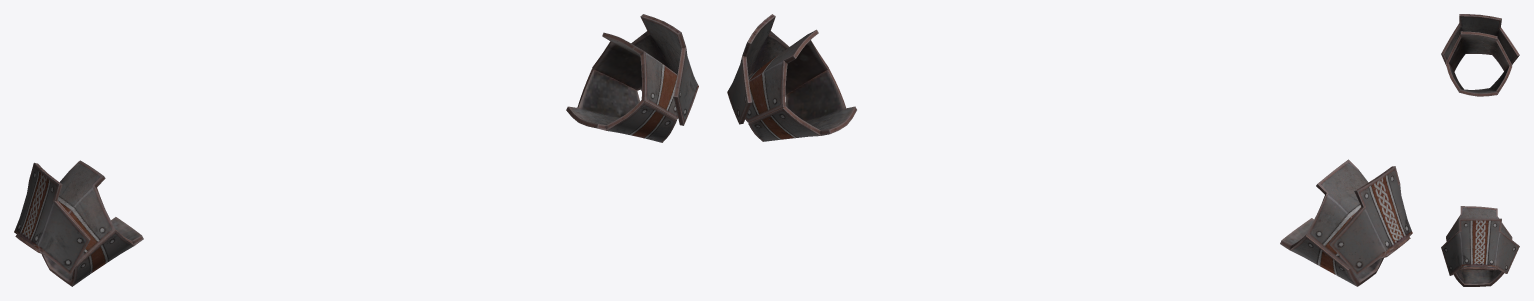
File: sk_dwarf_iron_bracer_med_c2.fbx
3 renders of one model, left to right at view 1: azimuth 30°, elevation 25°; view 2: azimuth 150°, elevation 25°; view 3: azimuth 270°, elevation 25°, orthographic. The views are drawn at different scales.
Parts seen in each view (by area): view 1: sk_dwarf_iron_bracer_med_c2; view 2: sk_dwarf_iron_bracer_med_c2; view 3: sk_dwarf_iron_bracer_med_c2.
Boxes of the visible parts, left/top/right/bottom form: sk_dwarf_iron_bracer_med_c2: left=14, top=14, right=698, bottom=286; sk_dwarf_iron_bracer_med_c2: left=727, top=14, right=1412, bottom=286; sk_dwarf_iron_bracer_med_c2: left=1441, top=14, right=1519, bottom=286.
Size of the model in its own units: 1.2 by 0.1833 by 0.1885.
